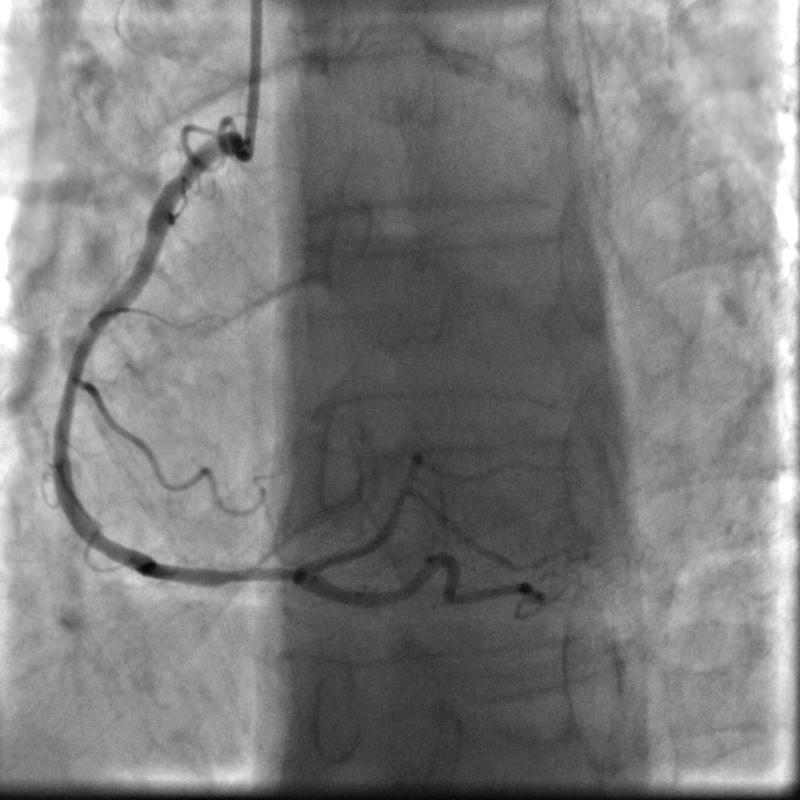Stenosis: (191, 550, 298, 598)
